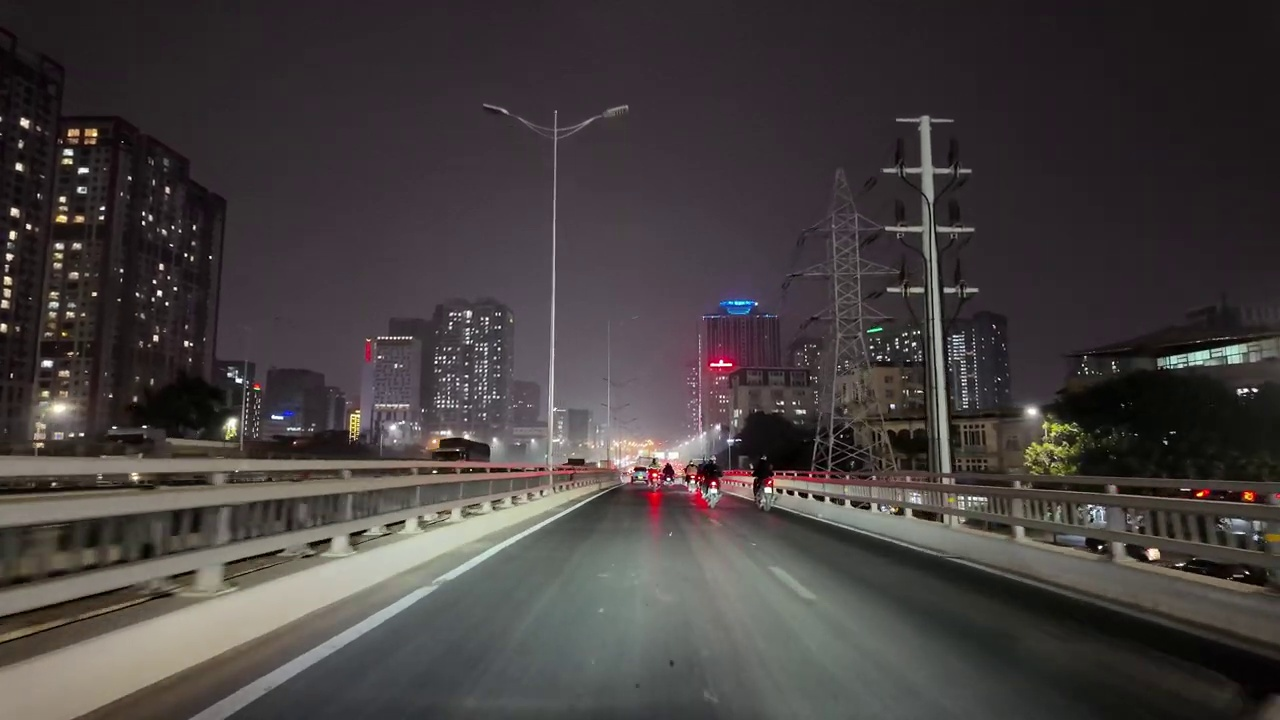apagada: (481, 102, 510, 124)
